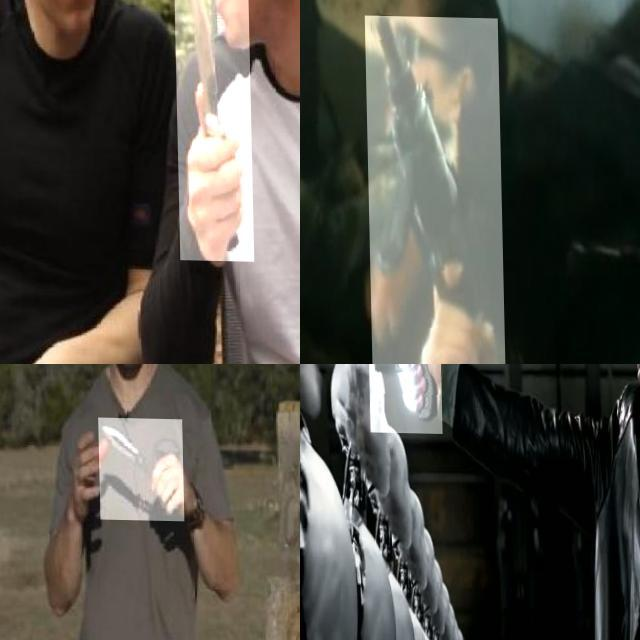-: (171, 0, 252, 260), (97, 416, 183, 520)
gun-knife-thesis - v11 Yolov5 augmented: (364, 14, 505, 364), (366, 364, 441, 432)
